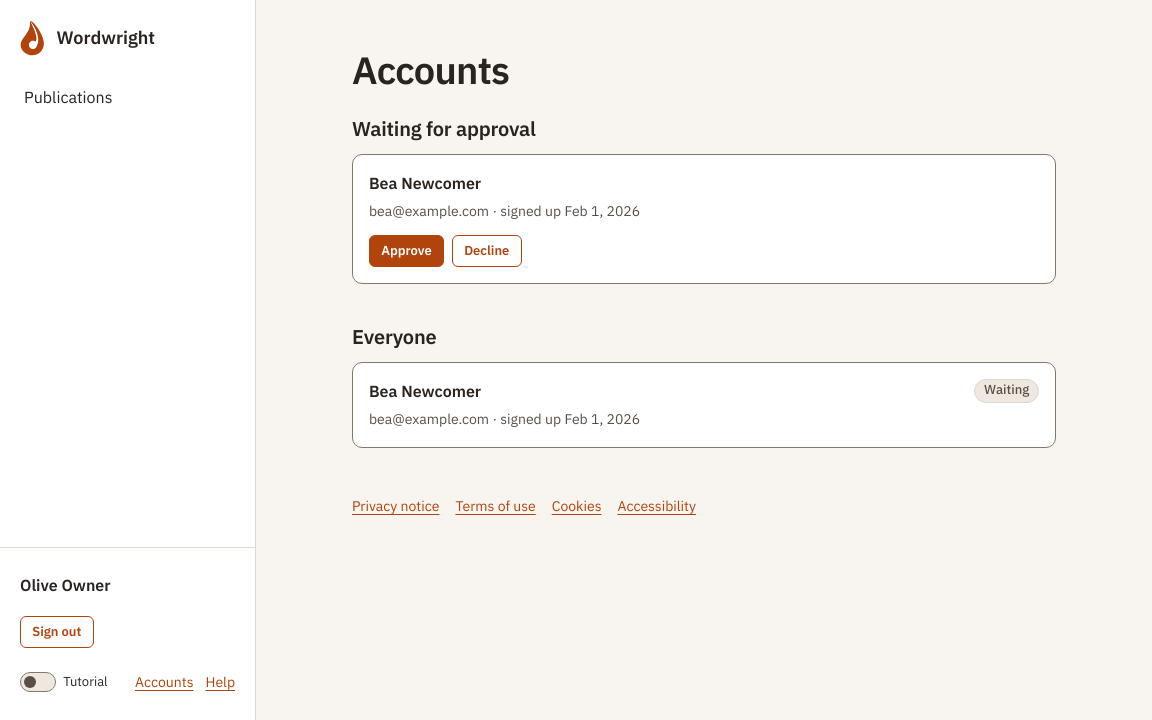
Test case: the admin list › shows what went wrong when a decision fails
Click the button with aria-label "Decline Bea Newcomer".
click(487, 251)  # box [452,235,522,267]
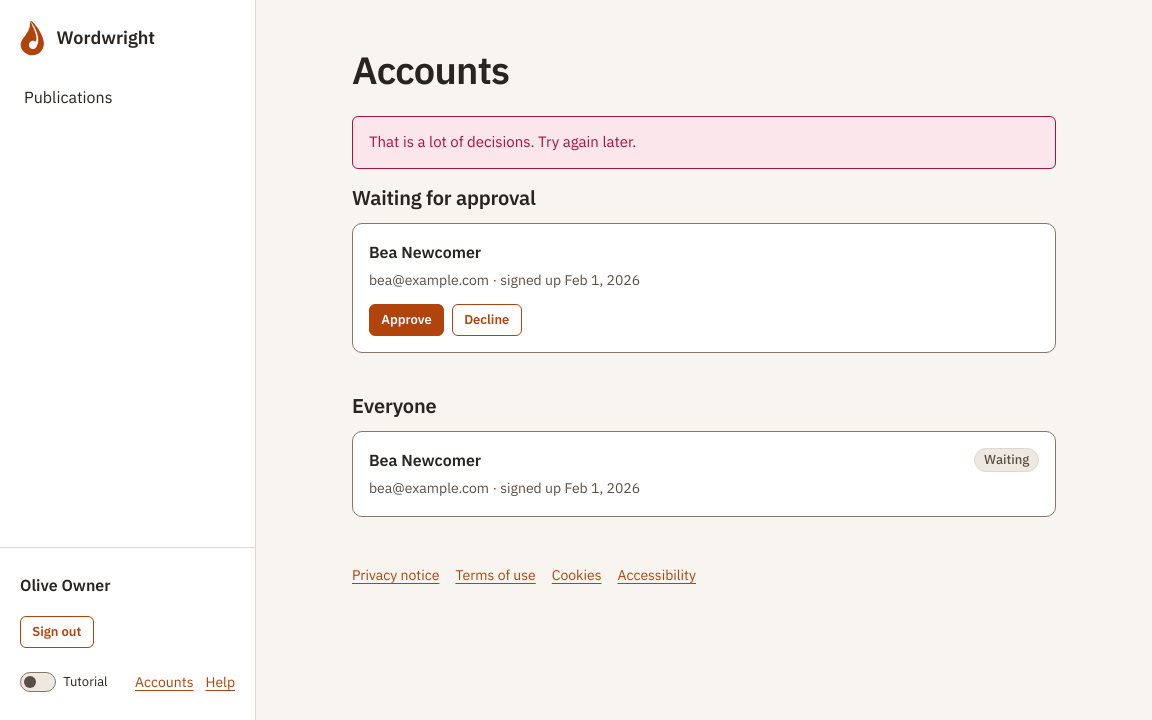
Result: the message shows "Try again later" at [369,132,636,151]
